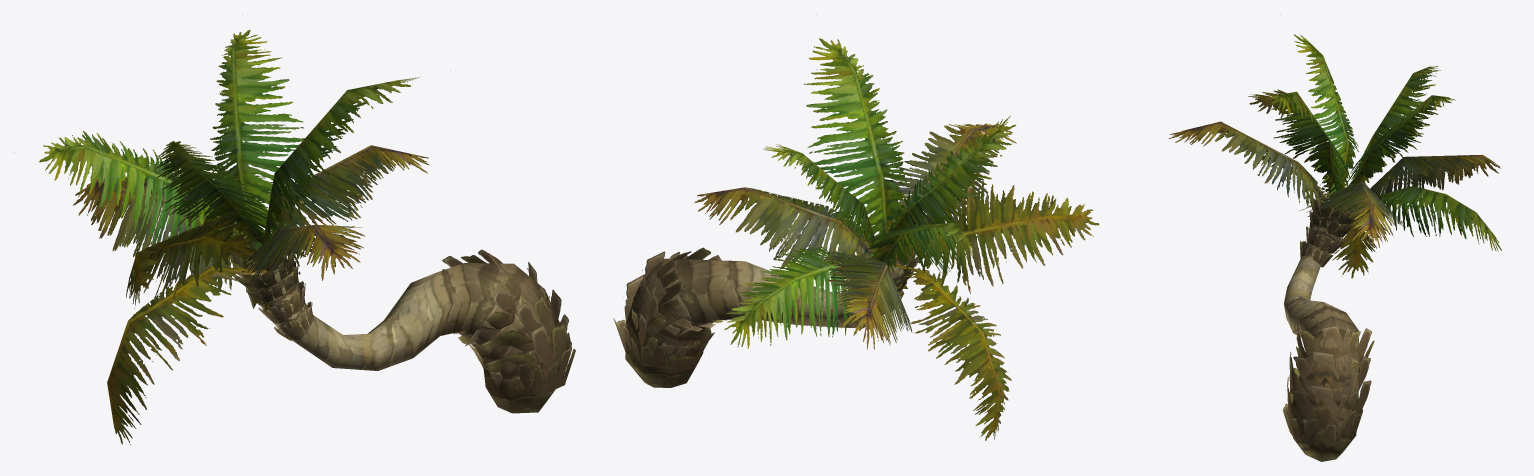
Rendered from PalmtreeC.FBX.
3 views of the same model, side by side, from view 1: azimuth 30°, elevation 25°; view 2: azimuth 150°, elevation 25°; view 3: azimuth 270°, elevation 25° (orthographic). The views are drawn at different scales.
Parts seen in each view (by area): view 1: PalmtreeC; view 2: PalmtreeC; view 3: PalmtreeC.
Boxes of the visible parts, x1,y1,x2,y2 form: PalmtreeC: (14, 14, 575, 444); PalmtreeC: (613, 14, 1099, 440); PalmtreeC: (1168, 14, 1501, 461).
Bounding box in the file's own units: 477 × 370 × 400.
Materials: 1 (1 with a texture image).
